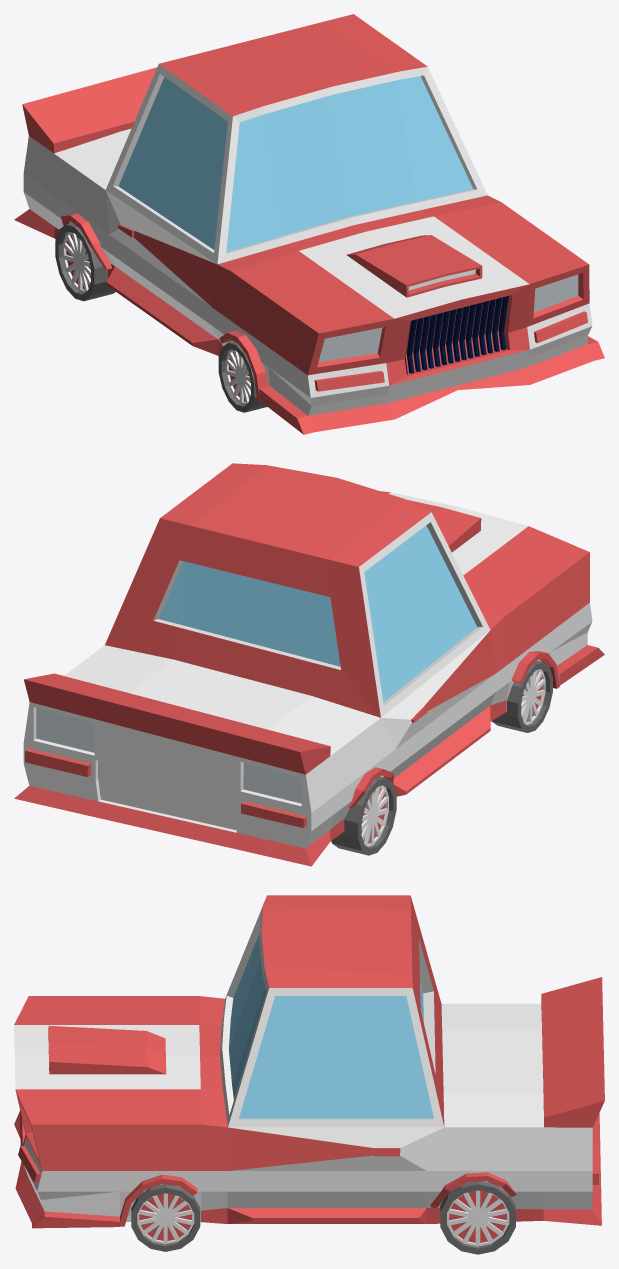
File: car.glb
The picture shows the model from 3 angles, top to bottom: view 1: azimuth 30°, elevation 25°; view 2: azimuth 150°, elevation 25°; view 3: azimuth 270°, elevation 25°; orthographic projection. The views are drawn at different scales.
Parts seen in each view (by area): view 1: body, lattice.1, wheel.1, headlight, wheel1.1, front_fender, rear_fender; view 2: body, backlight, wheel.1, wheel1.1, front_fender, rear_fender; view 3: body, wheel.1, wheel1.1, front_fender, rear_fender.
Part boxes in pixels (x1,y1,x2,y2): body: (14, 14, 604, 434); lattice.1: (405, 296, 508, 374); wheel.1: (55, 223, 115, 301); headlight: (318, 274, 578, 362); wheel1.1: (218, 341, 267, 412); front_fender: (219, 330, 268, 401); rear_fender: (61, 213, 111, 269); body: (14, 463, 604, 866); backlight: (36, 708, 301, 803); wheel.1: (331, 776, 396, 855); wheel1.1: (492, 660, 552, 732); front_fender: (511, 651, 559, 688); rear_fender: (348, 767, 393, 808); body: (14, 895, 604, 1228); wheel.1: (440, 1181, 515, 1254); wheel1.1: (131, 1184, 200, 1251); front_fender: (120, 1174, 197, 1226); rear_fender: (430, 1172, 516, 1208).
Size of the model in its own units: 1.39 by 1.11 by 2.37.
